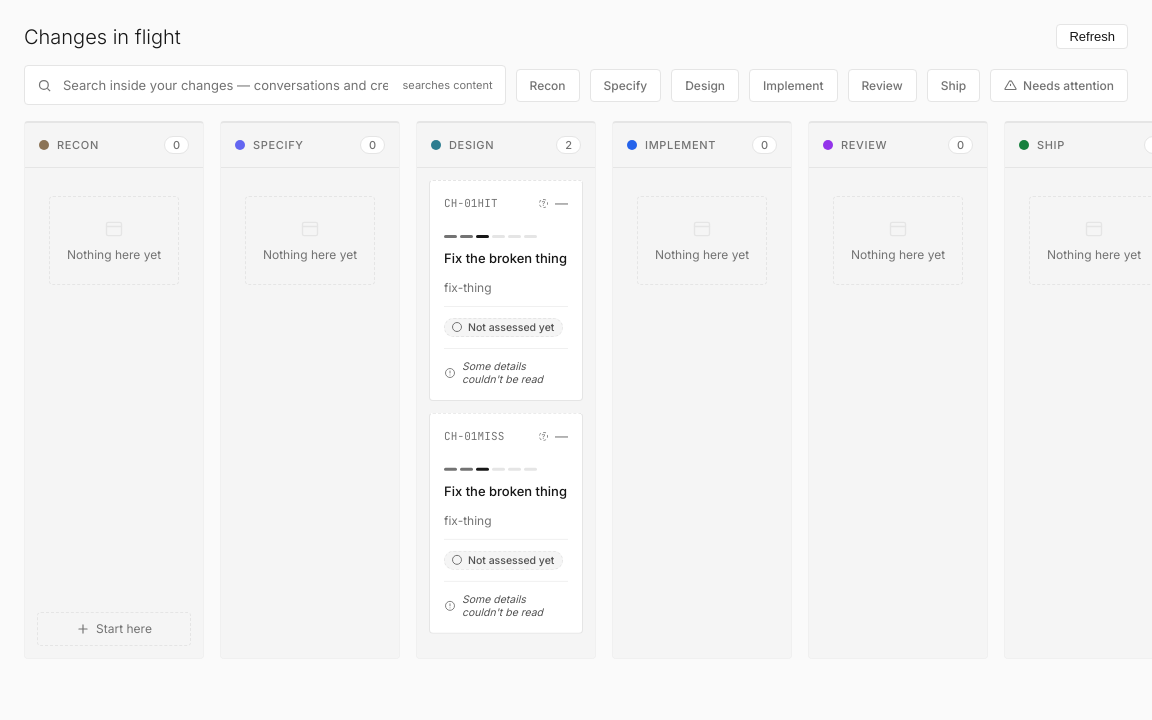
Scenario: Board wiring — the toolbar narrows the SAME board (ADR-005) › clearing the search restores the full board (ADR-005)
The image size is (1152, 720).
Check: the text "CH-01MISS" is shown, box [444, 429, 504, 443]
Step 1. Replace the text in the search field with "x" → coordinates (227, 85), box [61, 76, 394, 94]
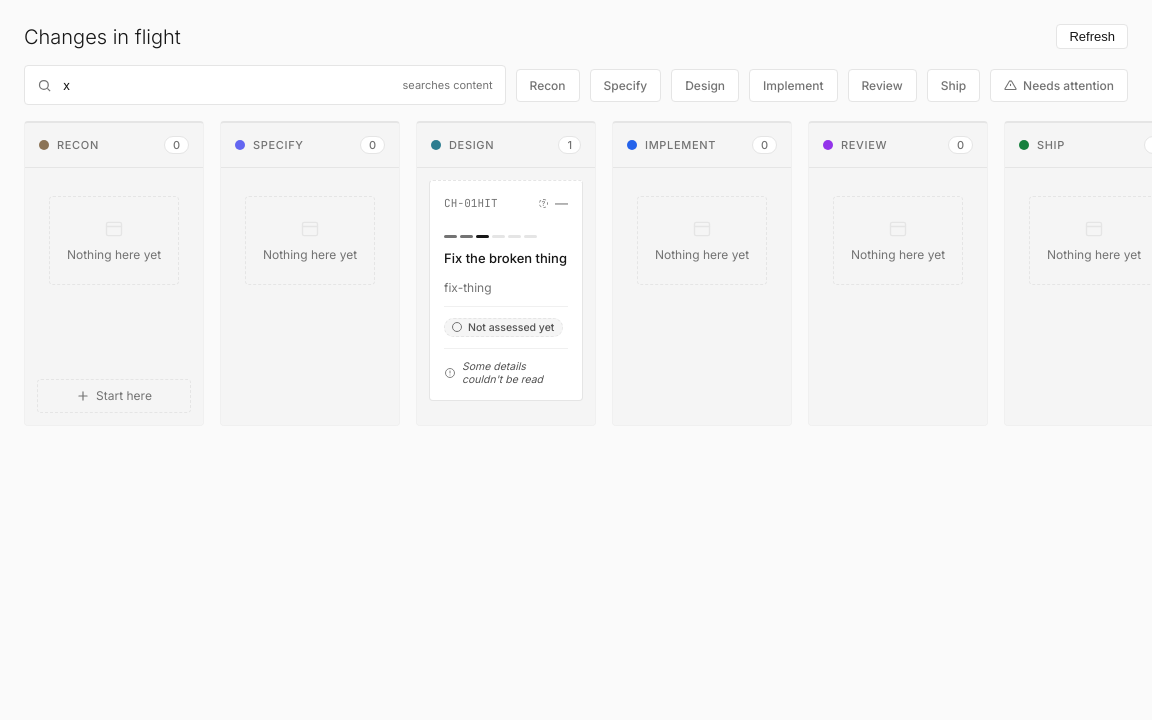
Check: the text "CH-01HIT" is shown, box [444, 196, 498, 210]
Check: the link "CH-01MISS" is gone
Note: Clear → the full board returns.
Step 2. Clear the search field → coordinates (227, 85), box [61, 76, 394, 94]
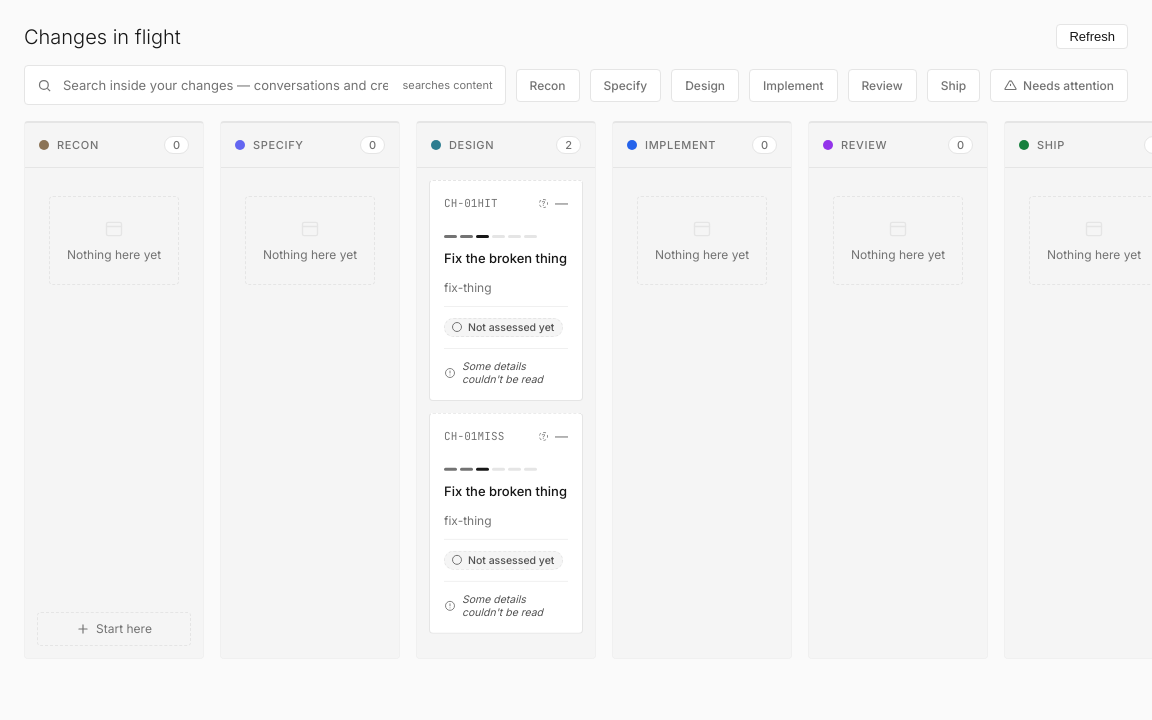
Check: the text "CH-01MISS" is shown, box [444, 429, 504, 443]
